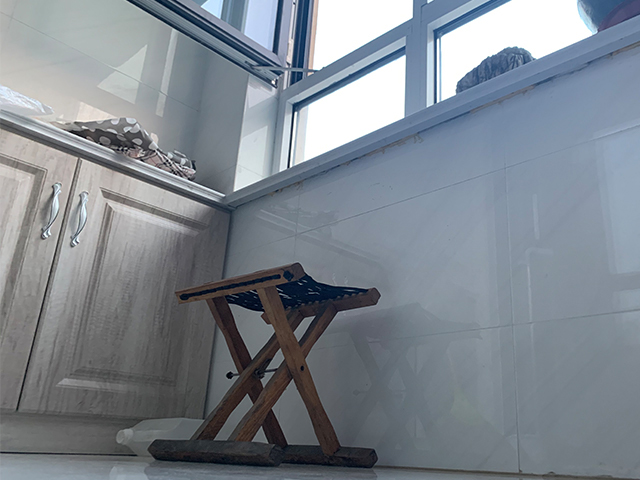cabinet: (1, 107, 233, 456)
stool: (146, 262, 381, 469)
